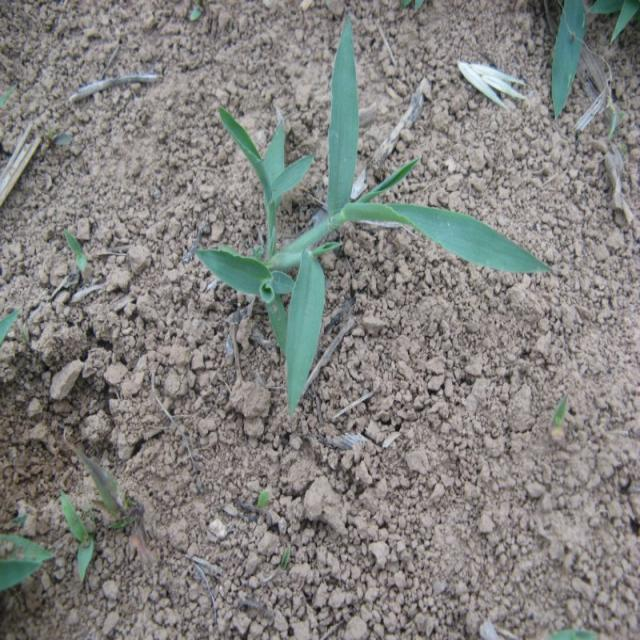bg: (194, 23, 553, 409)
